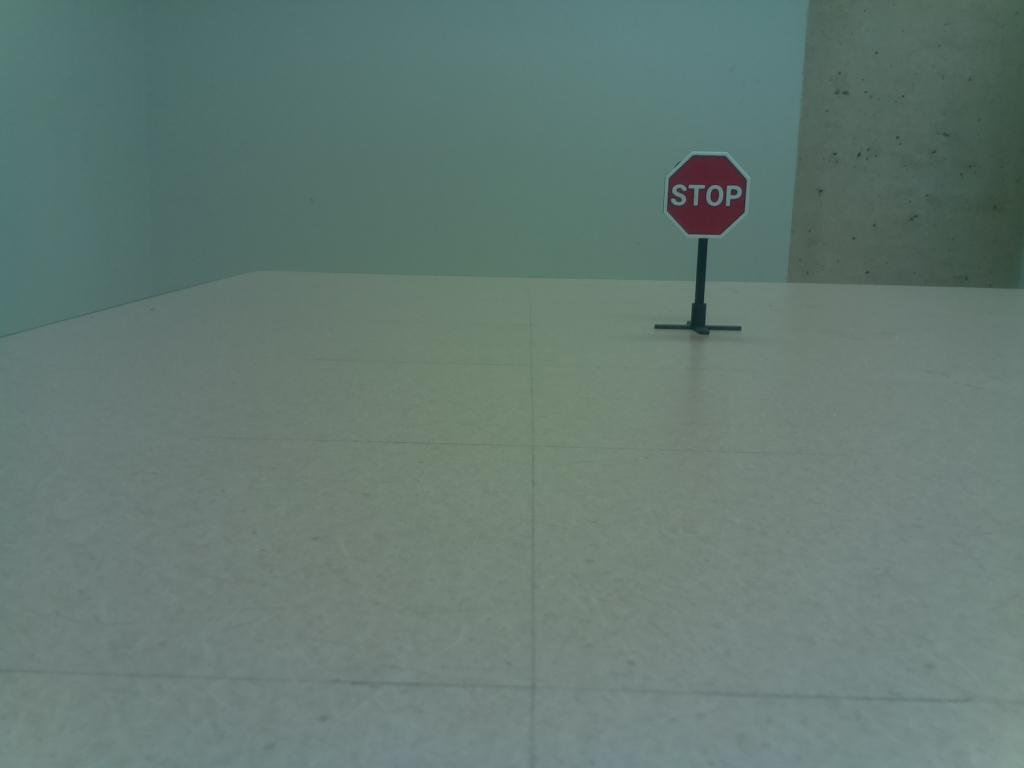sign_stop: (658, 147, 759, 241)
